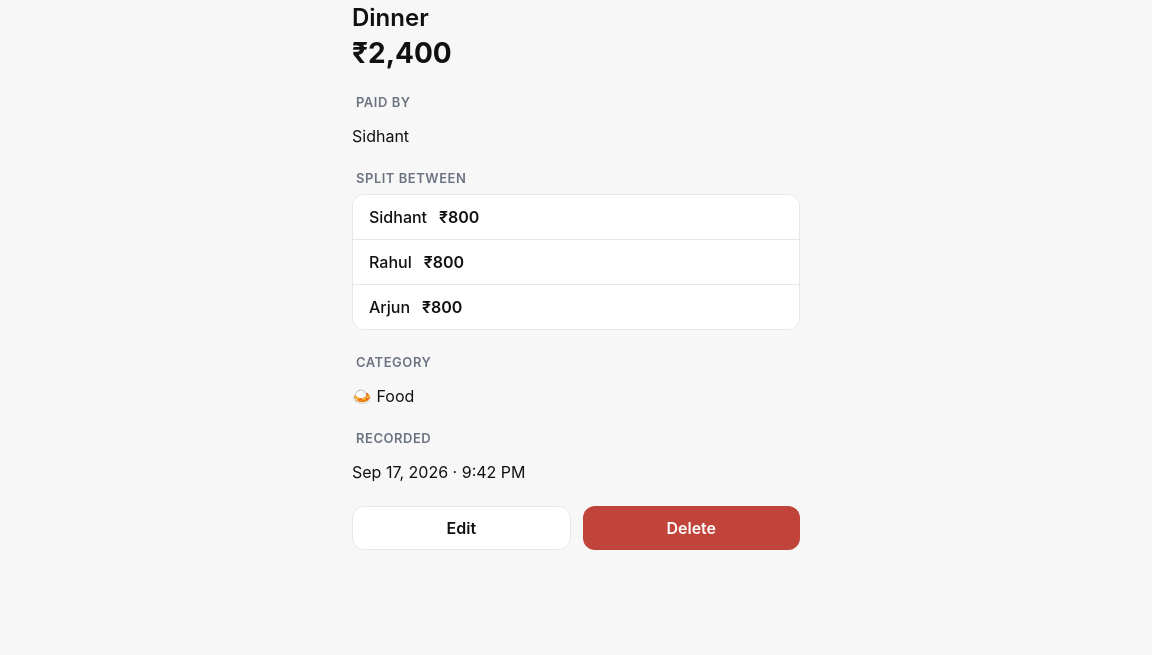
Scenario: ExpenseDetailScreen › requires the admin password to edit, and updates on success
Click the button "Edit" at (461, 528), box [352,506,570,550]
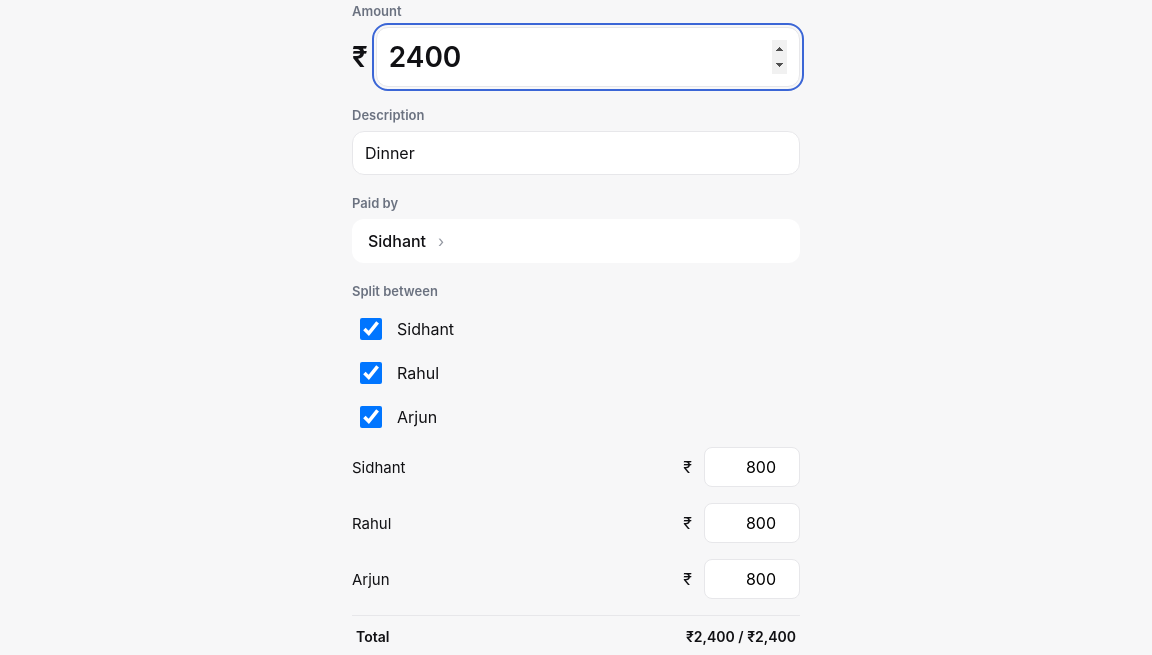
Replace the text in the field labelled "Description" with "Dinner at Cafe" at (576, 153), box [352,131,800,175]
(page scrolled)
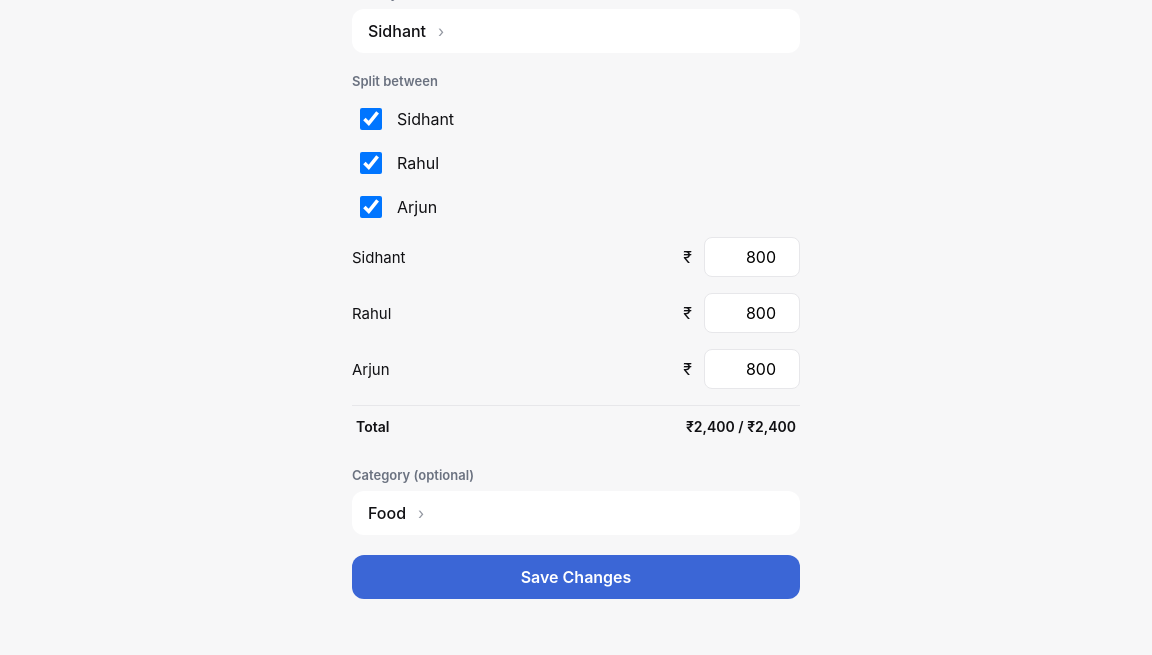
Click the button "Save Changes" at (576, 577), box [352,555,800,599]
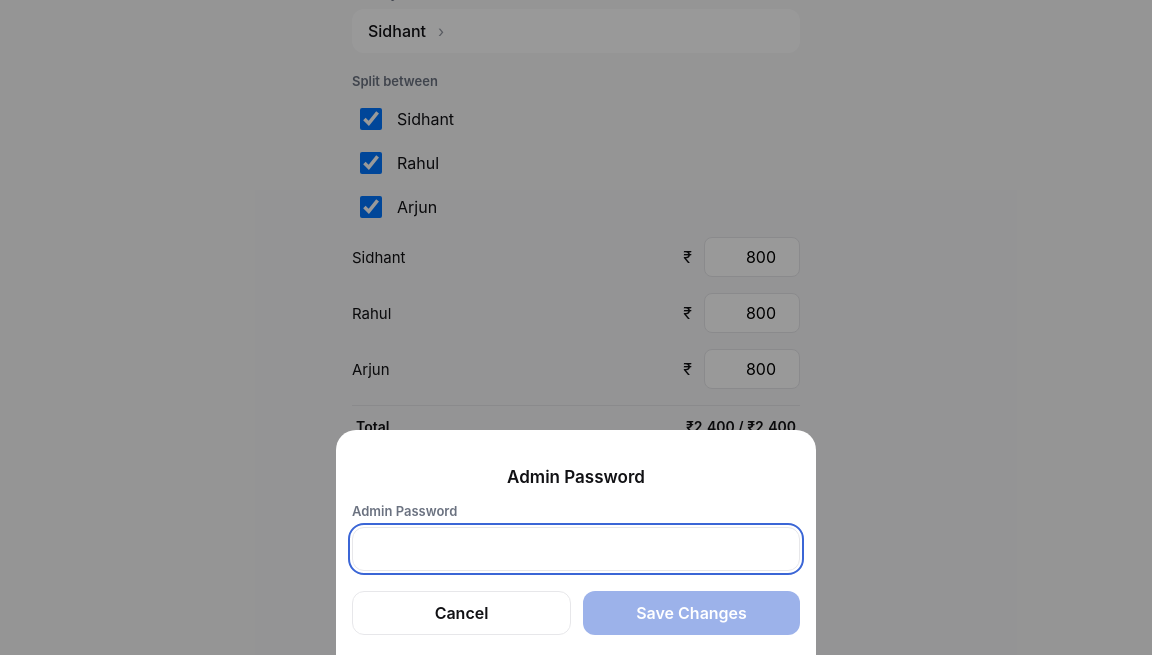
Type "correct-password" into the password field labelled "Admin Password" at (576, 549), box [352,527,800,571]
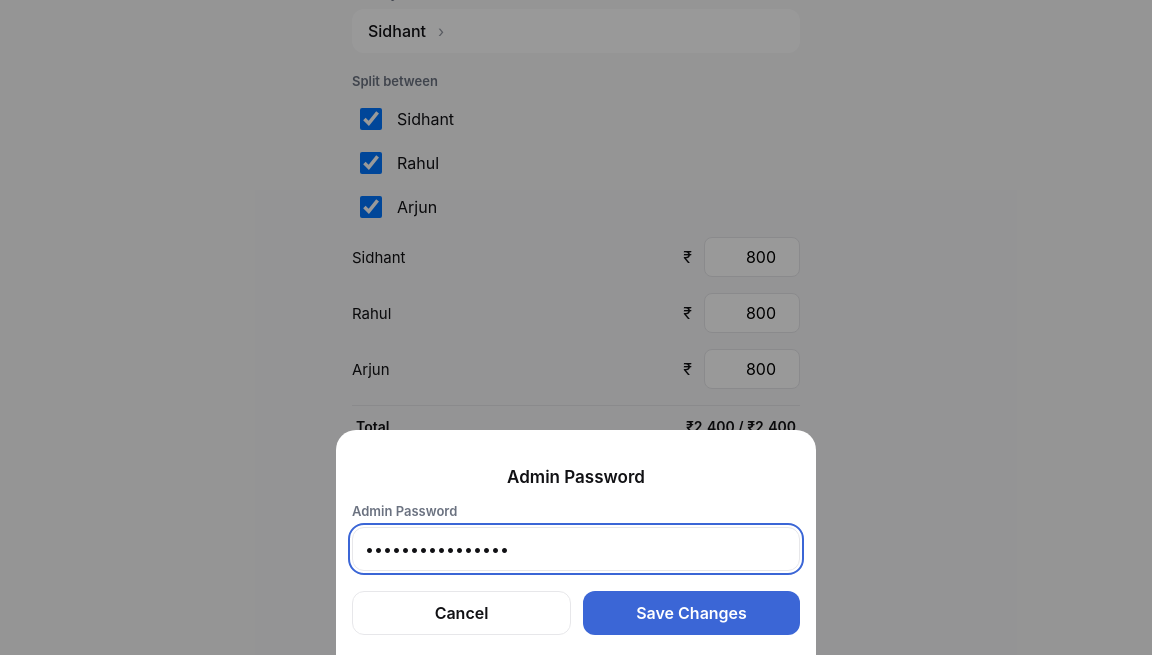
Click the button "Save Changes" at (692, 613), box [583,591,800,635]
(page scrolled)
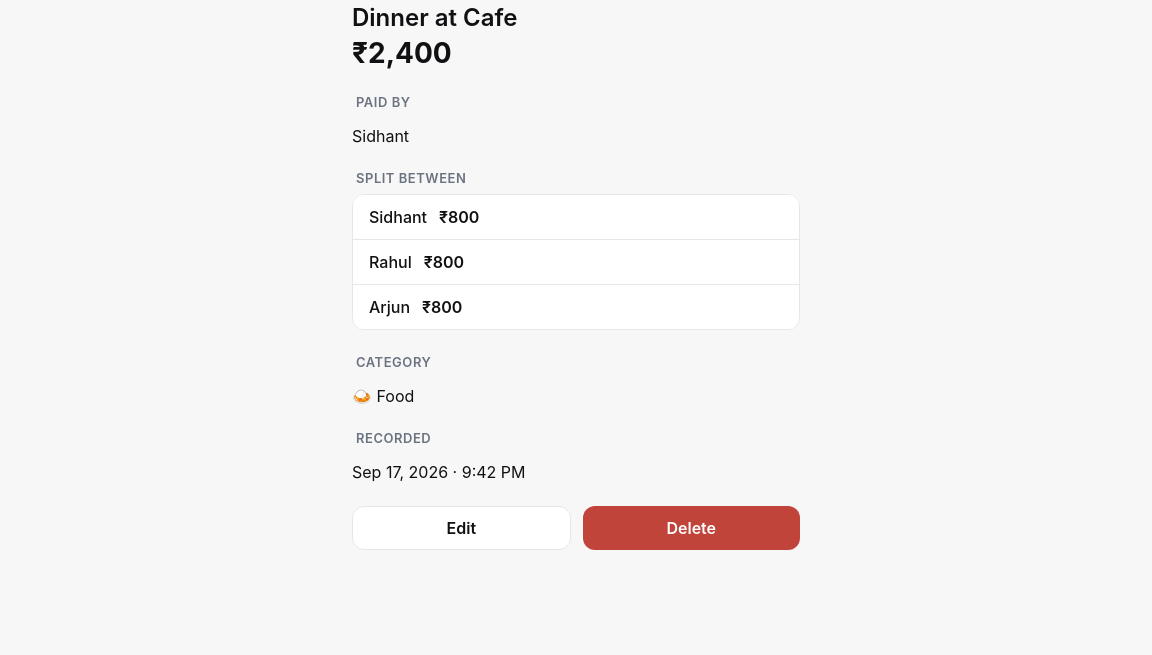
Expected: the heading "Dinner at Cafe" is shown, [352,3,518,32]
